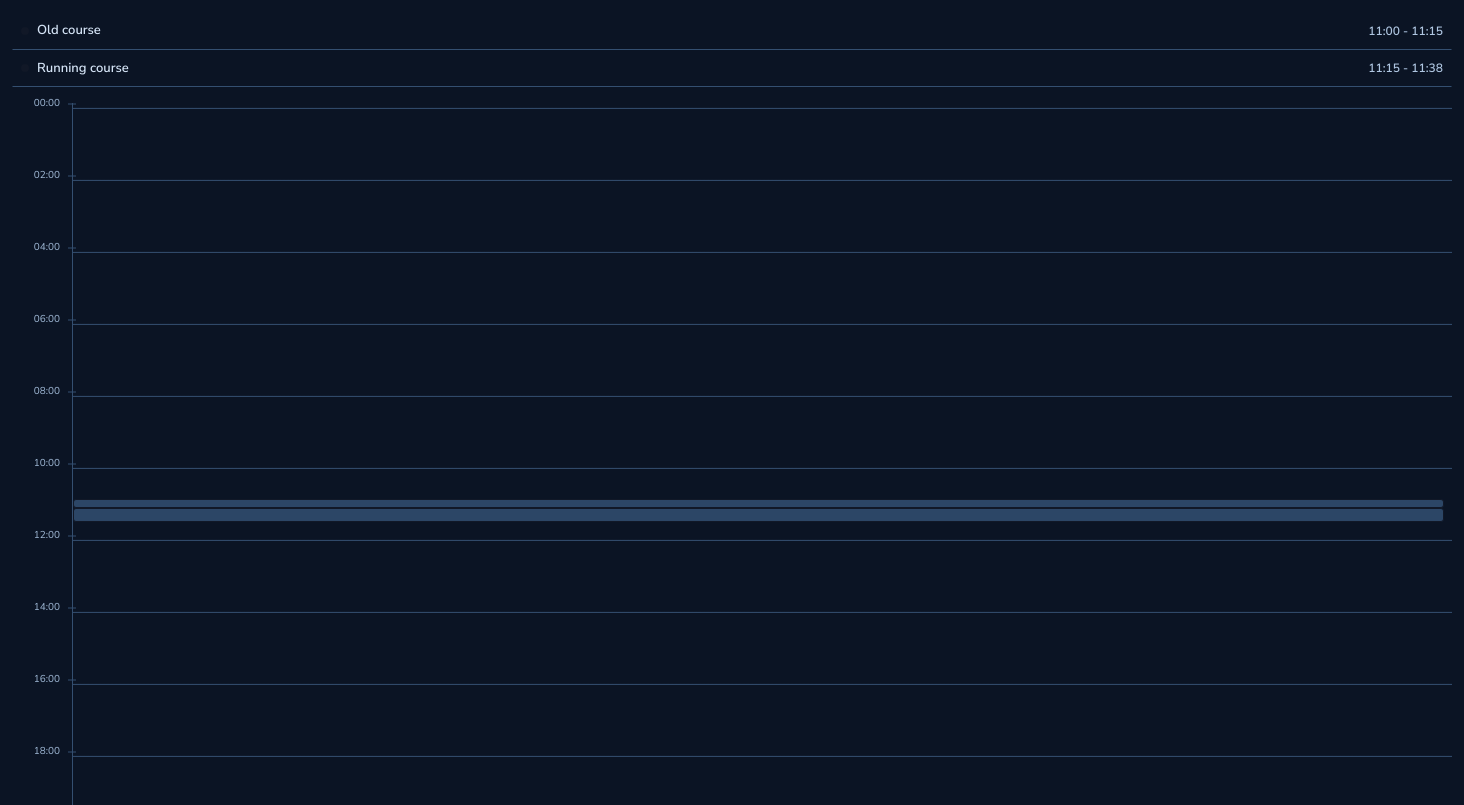
gives adjacent short sessions readable selection controls without stretching their timeline intervals
Expected: the button "Old course 11:00 - 11:15" is shown, 12,12 -> 1452,50
Click the button "Running course 11:15 - 11:38" at [83, 68], box 12,50 -> 1452,87
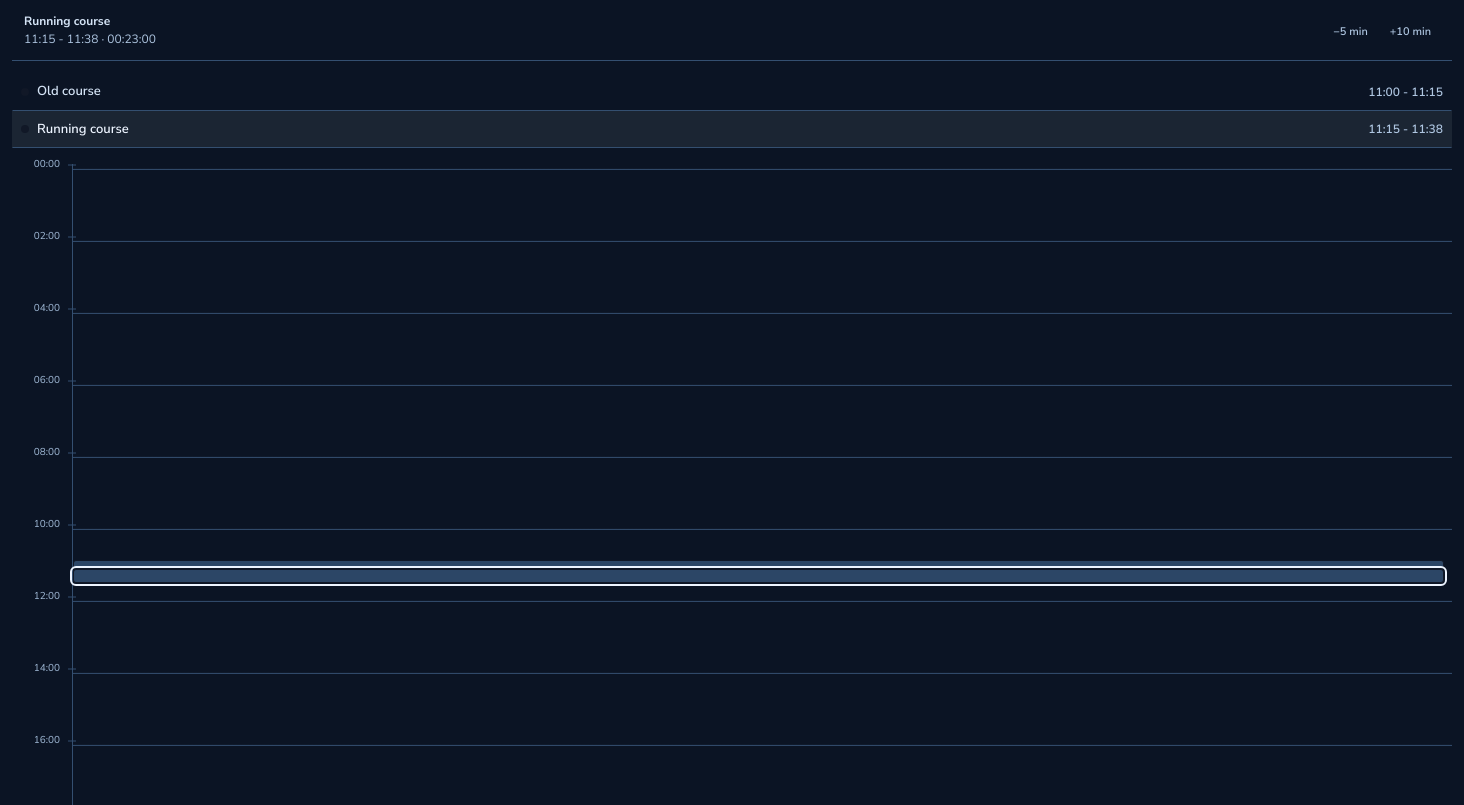
Now the button with aria-label "Add 10 minutes to session" is shown, box 1381,16 -> 1440,48
